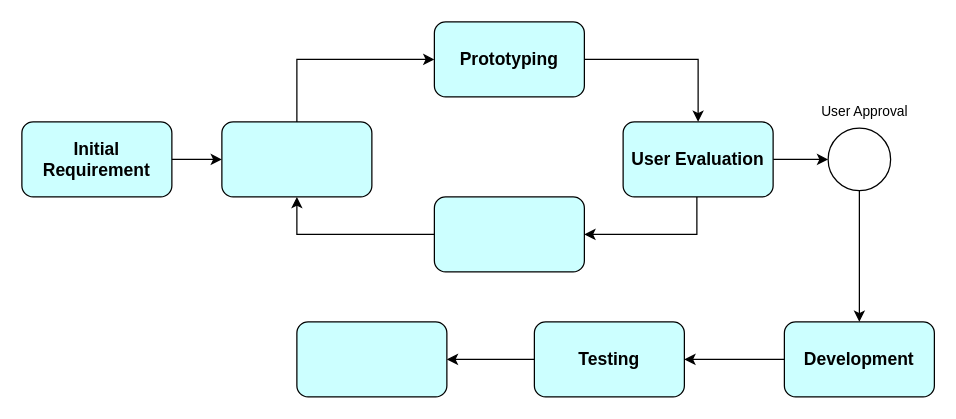
This 956x419 diagram has some shape labels left out. Each missing label, with the box of its shape:
Design: (221, 121, 372, 197)
Maintenance: (296, 321, 447, 397)
Review and Update: (433, 196, 584, 272)
